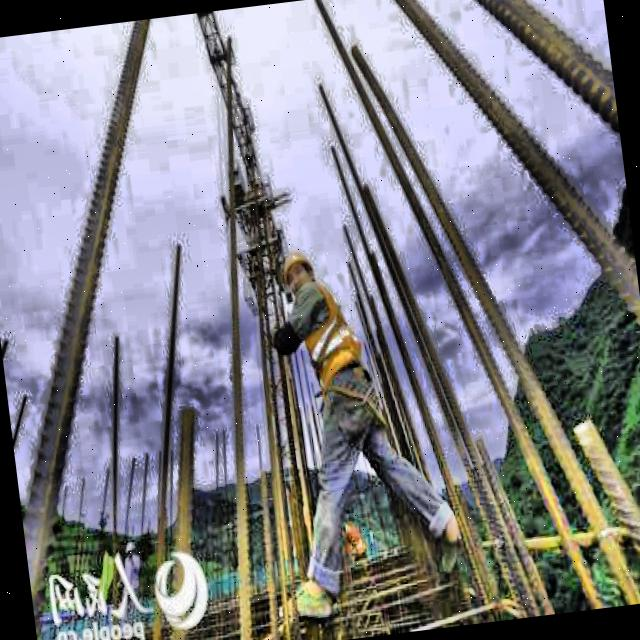helmet: (276, 245, 321, 302)
